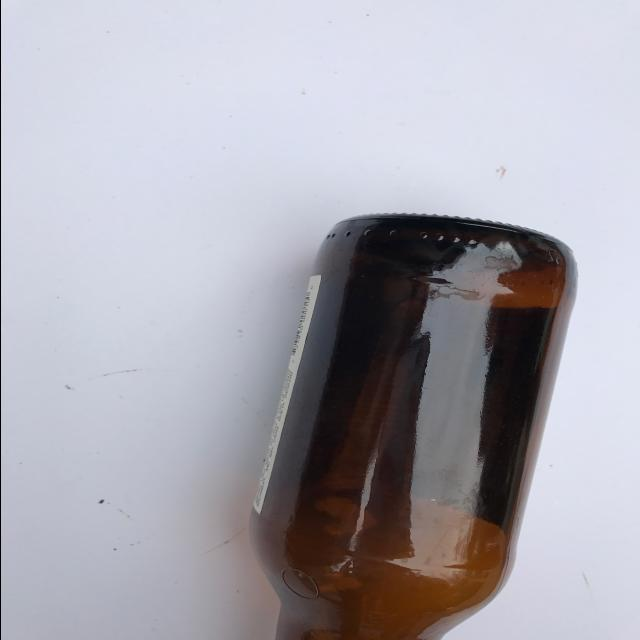glass: (244, 214, 582, 640)
